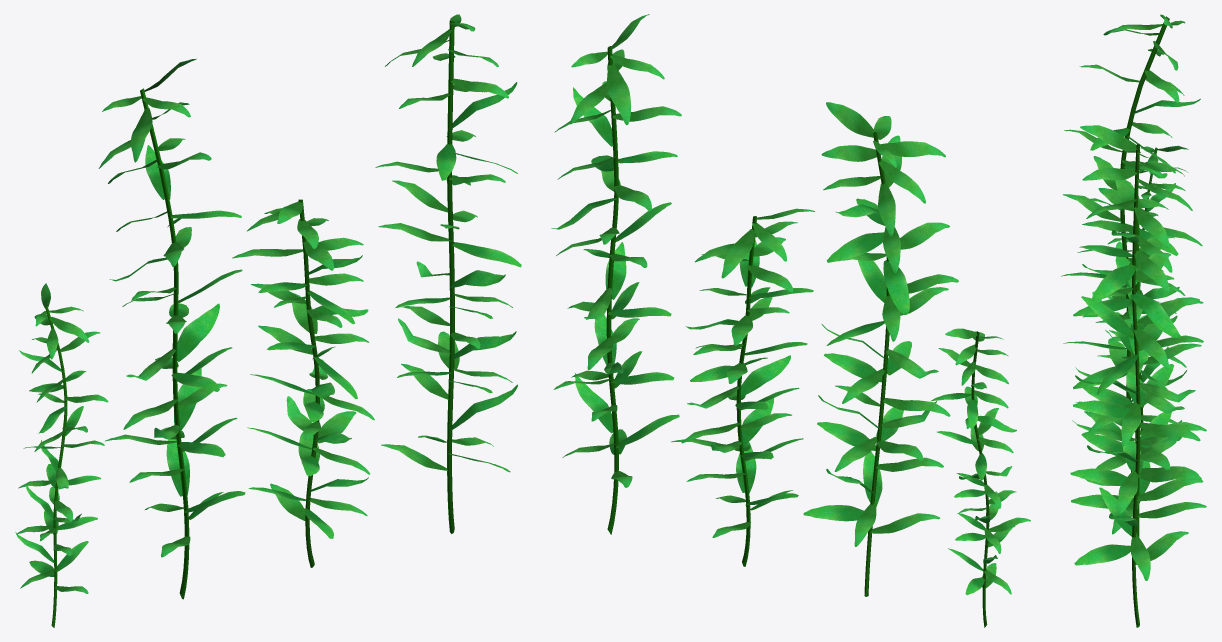
The model's file is KelpTrees_Fixed.fbx.
The picture shows the model from 3 angles, left to right: view 1: azimuth 30°, elevation 25°; view 2: azimuth 150°, elevation 25°; view 3: azimuth 270°, elevation 25°; orthographic projection. The views are drawn at different scales.
Visible parts, largest first — view 1: KelpPlant_C, KelpPlant_A1, KelpPlant_B, KelpPlant_D; view 2: KelpPlant_C, KelpPlant_A1, KelpPlant_B, KelpPlant_D; view 3: KelpPlant_A1, KelpPlant_B, KelpPlant_C, KelpPlant_D.
Boxes of the visible parts, x1,y1,x2,y2 form: KelpPlant_C: (98, 58, 245, 599); KelpPlant_A1: (375, 14, 521, 533); KelpPlant_B: (232, 199, 374, 567); KelpPlant_D: (15, 283, 108, 627); KelpPlant_C: (803, 102, 958, 596); KelpPlant_A1: (551, 14, 681, 534); KelpPlant_B: (671, 208, 814, 566); KelpPlant_D: (931, 328, 1030, 627); KelpPlant_A1: (1070, 125, 1206, 627); KelpPlant_B: (1071, 188, 1206, 536); KelpPlant_C: (1061, 14, 1200, 503); KelpPlant_D: (1095, 145, 1188, 430).
Size of the model in its own units: 3.61 by 3.79 by 1.02.
1 material, 1 textured.
